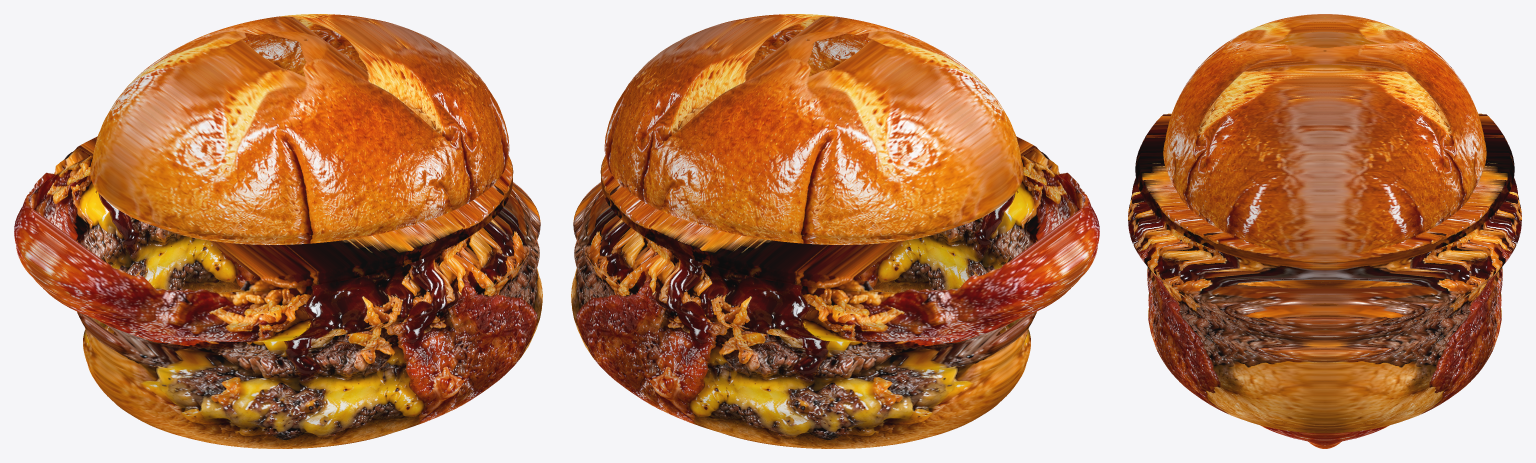
File: purple-crispy.glb
3 renders of one model, left to right at view 1: azimuth 30°, elevation 25°; view 2: azimuth 150°, elevation 25°; view 3: azimuth 270°, elevation 25°, orthographic. The views are drawn at different scales.
Parts seen in each view (by area): view 1: purple-crispy; view 2: purple-crispy; view 3: purple-crispy.
Boxes of the visible parts, left/top/right/bottom form: purple-crispy: left=14, top=14, right=542, bottom=448; purple-crispy: left=571, top=14, right=1099, bottom=448; purple-crispy: left=1128, top=14, right=1521, bottom=448.
Size of the model in its own units: 2 by 1.53 by 1.54.
Materials: 1 (1 with a texture image).
